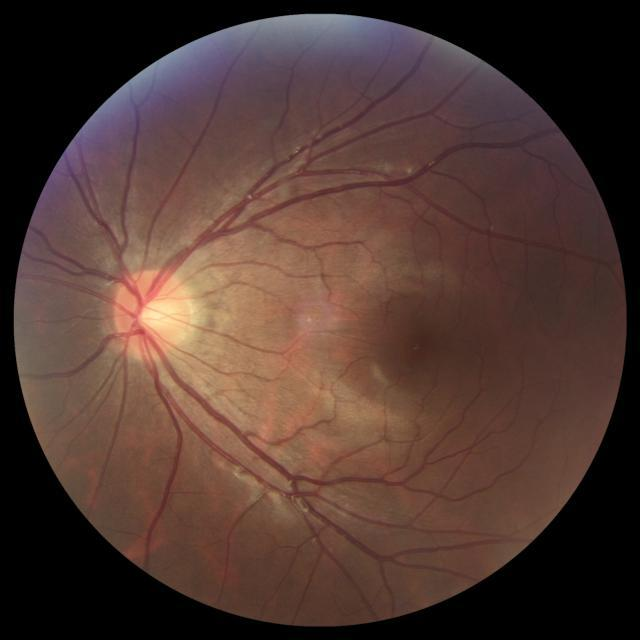OC: (136, 298, 168, 330)
OD: (112, 270, 192, 358)
